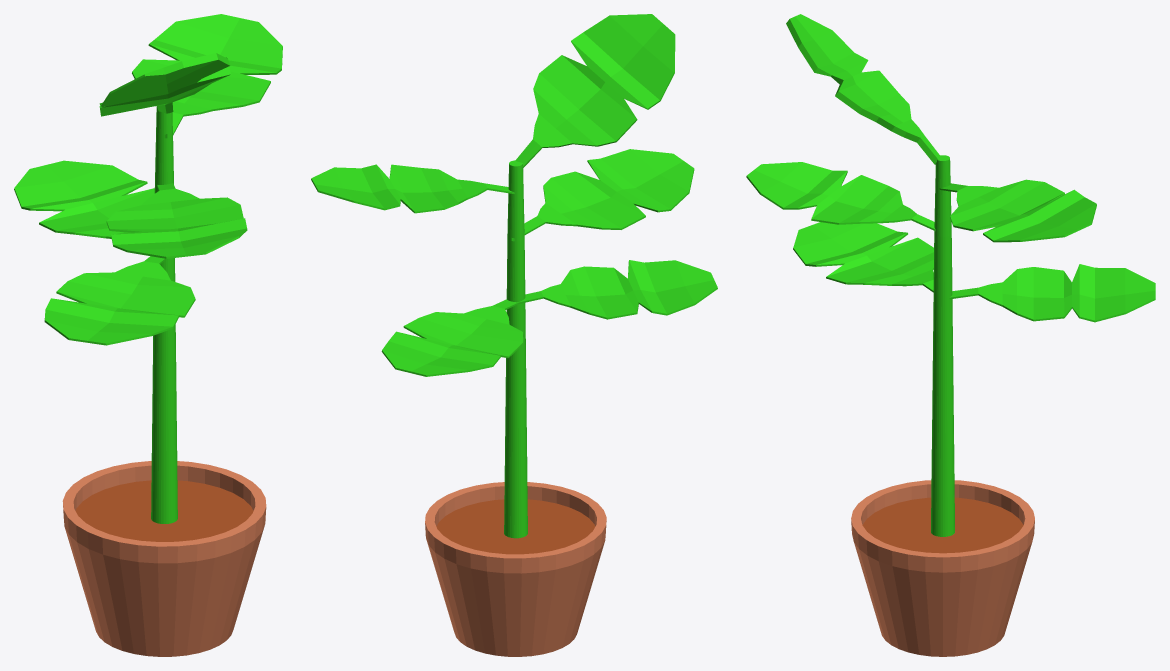
Rendered from Tall_Plant_pot.fbx.
3 views of the same model, side by side, from view 1: azimuth 30°, elevation 25°; view 2: azimuth 150°, elevation 25°; view 3: azimuth 270°, elevation 25° (orthographic). The views are drawn at different scales.
Visible parts, largest first — view 1: Cylinder; view 2: Cylinder; view 3: Cylinder.
Boxes of the visible parts, x1=… form: Cylinder: x1=14, y1=14, x2=282, y2=656; Cylinder: x1=311, y1=14, x2=717, y2=656; Cylinder: x1=746, y1=14, x2=1155, y2=656.
Bounding box in the file's own units: 552 × 1054 × 672.
